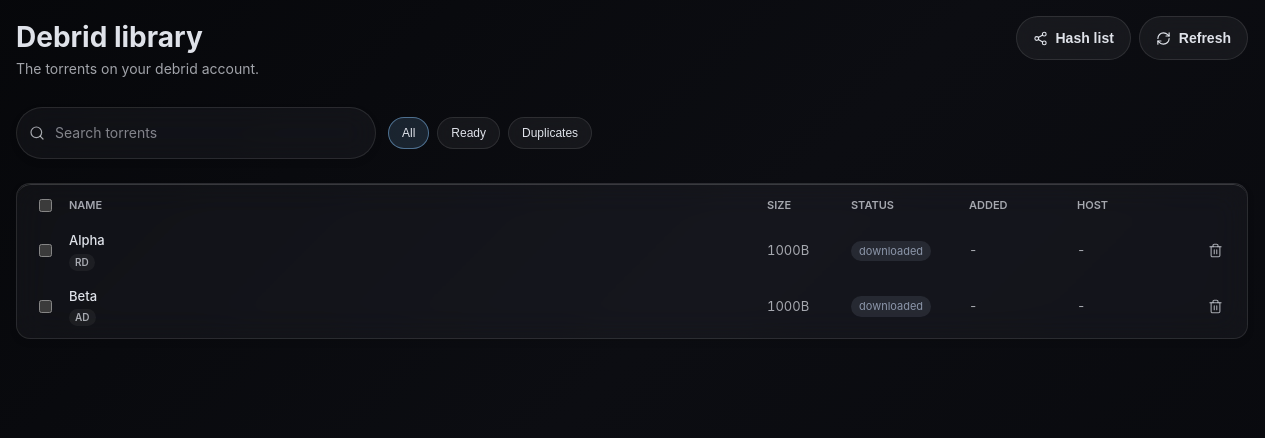
DebridLibrary - select-all + delete › a single row checkbox shows a 1-selected bulk bar (partial state)
What coordinates should you click on to do the following:
click the checkbox named "Select Alpha"
I would click on:
 (46, 251)
Its box is [39,244,52,257].
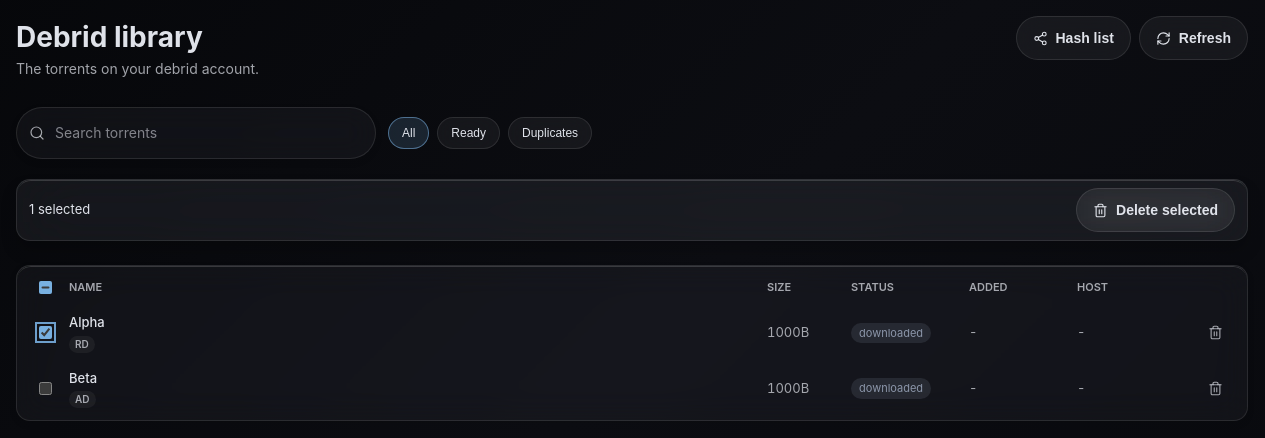
Expected: the text "1 selected" is shown, [29,200,90,220]
